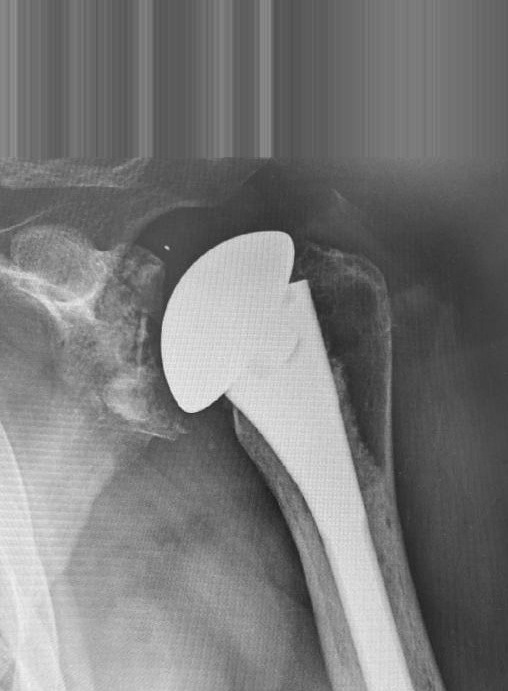Shoulder - Anotomical - Stryker: (150, 219, 350, 416)
